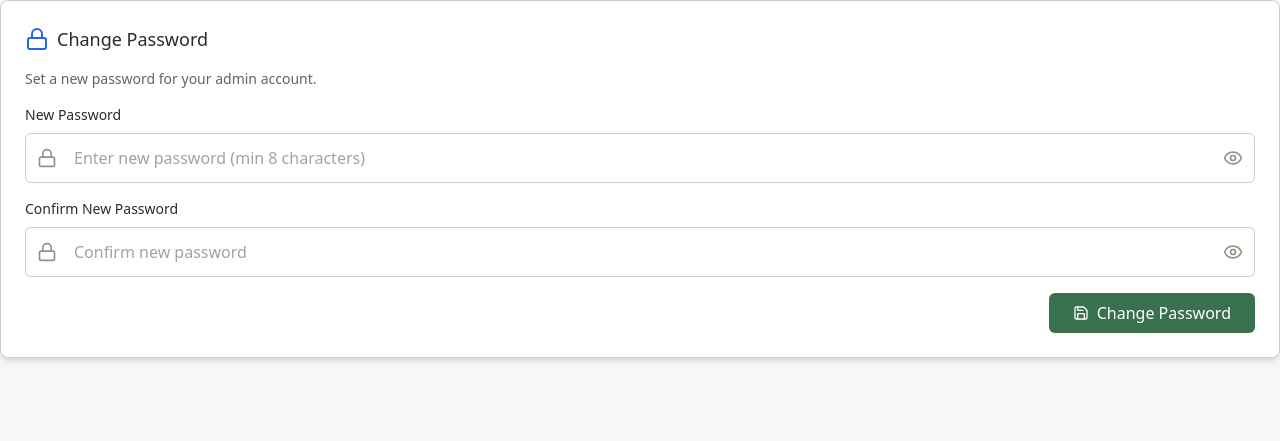
Test: PasswordChange › Form Validation › shows error when passwords do not match
The width and height of the screenshot is (1280, 441).
Type "password123" into the password field labelled "New Password". click: (640, 158)
box: [25,133,1255,183]
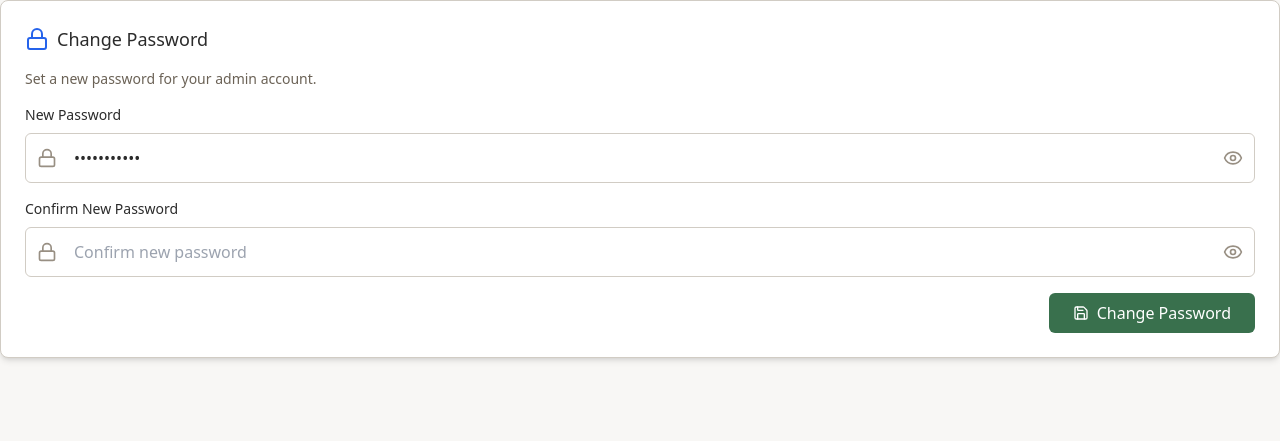
Type "password456" into the password field labelled "Confirm New Password". click: (640, 252)
box: [25,227,1255,277]
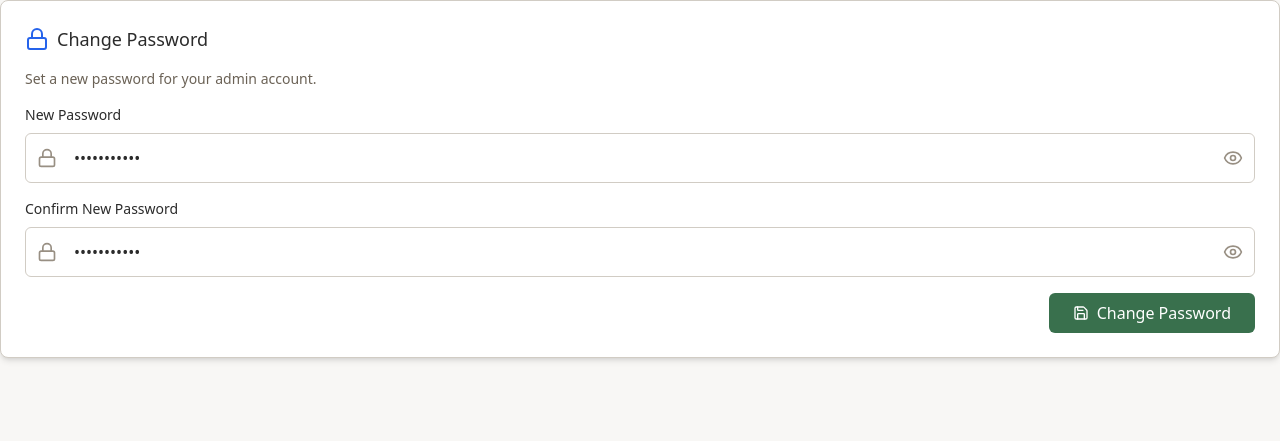
Submit the form "New Password Confirm New Password Change Password", box [25,105,1255,333]
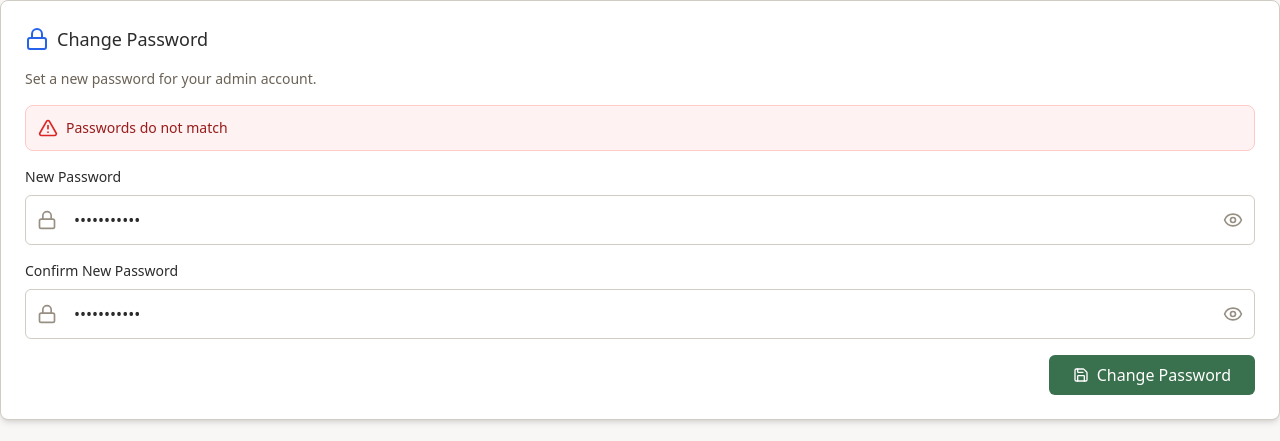
Now the text "Passwords do not match" is shown, box [66,118,228,138]
